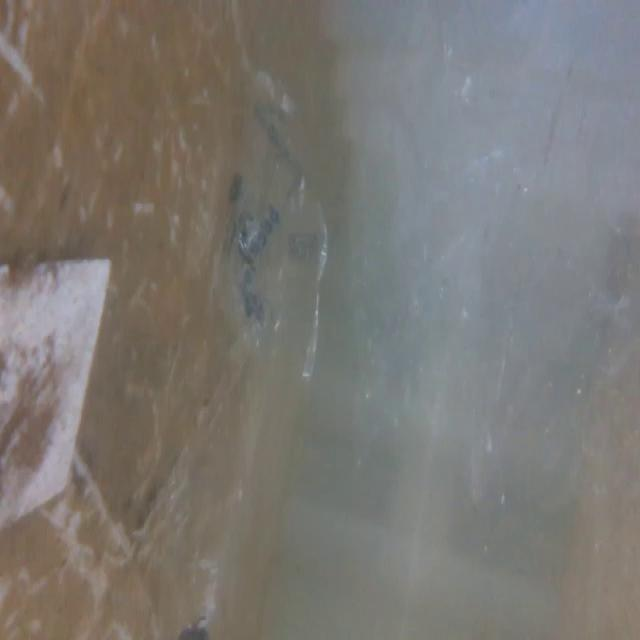metal: (0, 249, 119, 531)
plastic bags: (346, 0, 590, 577), (222, 83, 334, 394)
plastic bottle: (162, 432, 251, 640)
